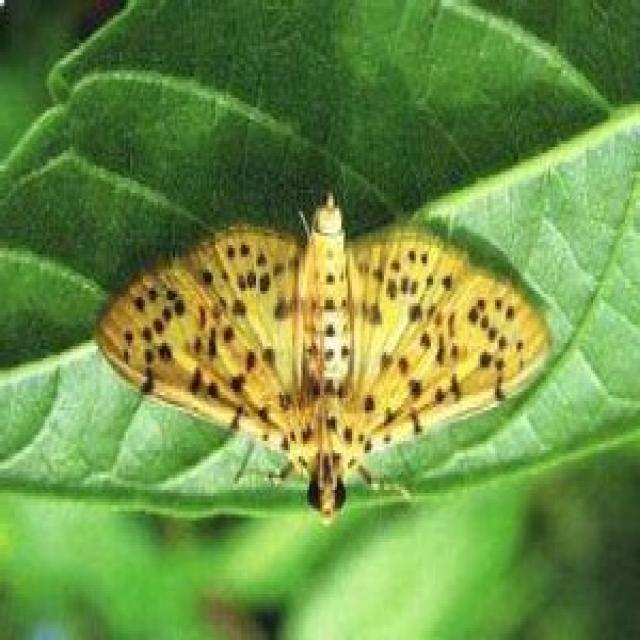peach borer: (88, 190, 551, 530)
